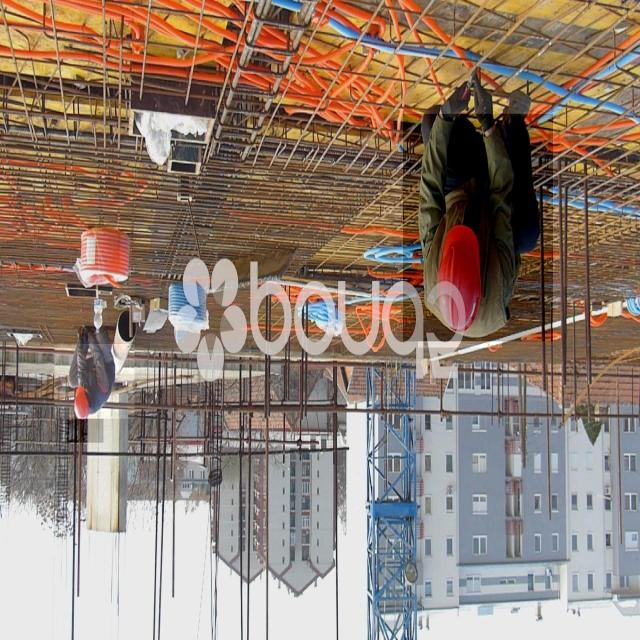Helmet: (418, 212, 502, 348), (66, 363, 104, 442)
Safety Vest: (404, 114, 554, 341), (55, 344, 135, 419)
